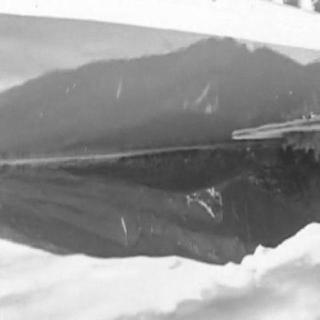other: (65, 4, 318, 42)
